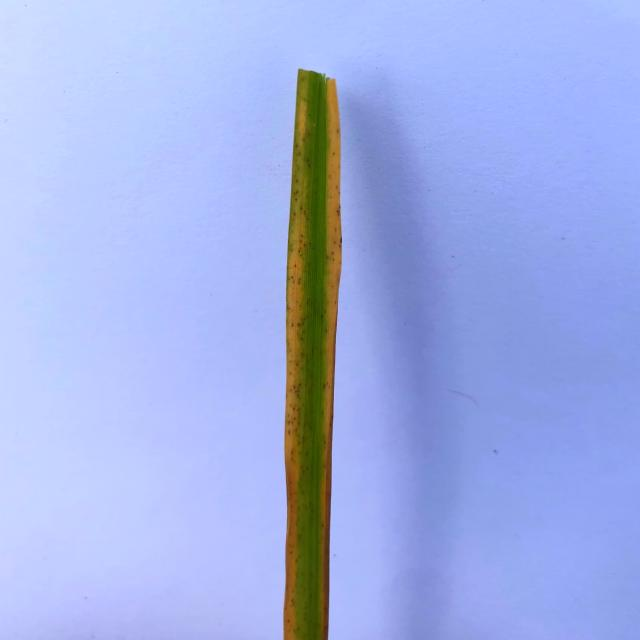tungro: (318, 72, 340, 640), (287, 66, 304, 640)
